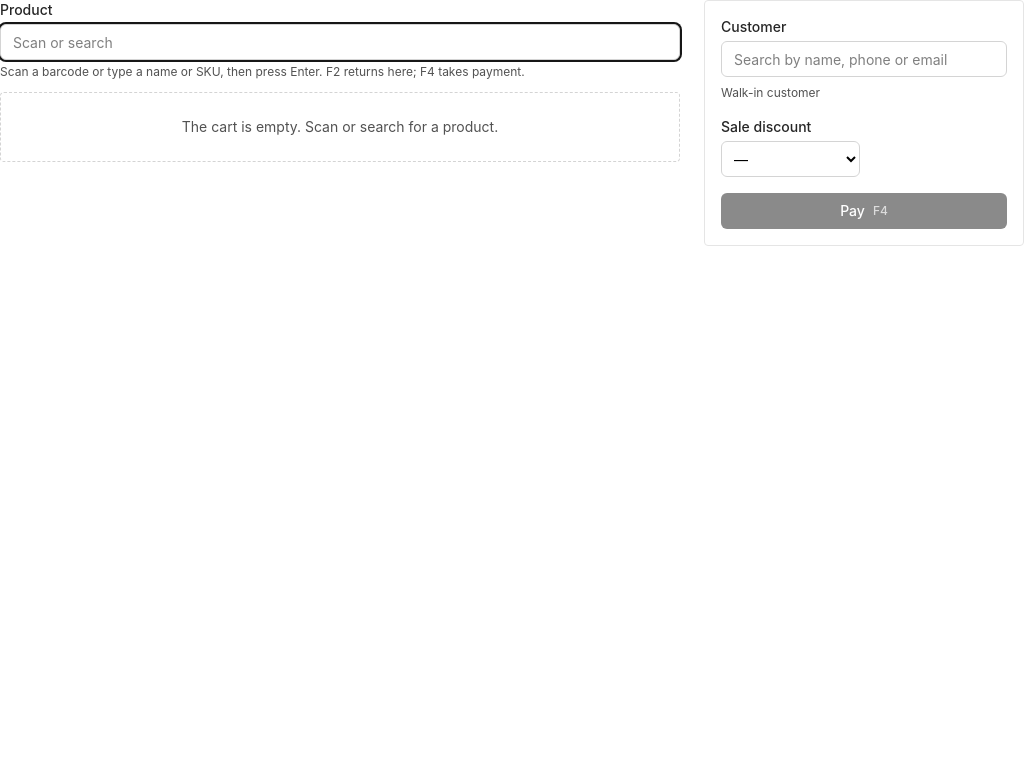
Test: PosScreen › needs a reference for a method that asks for one
Type "CH-A" into the field labelled "Product". click: (340, 42)
box: left=0, top=24, right=680, bottom=60
Then press Enter
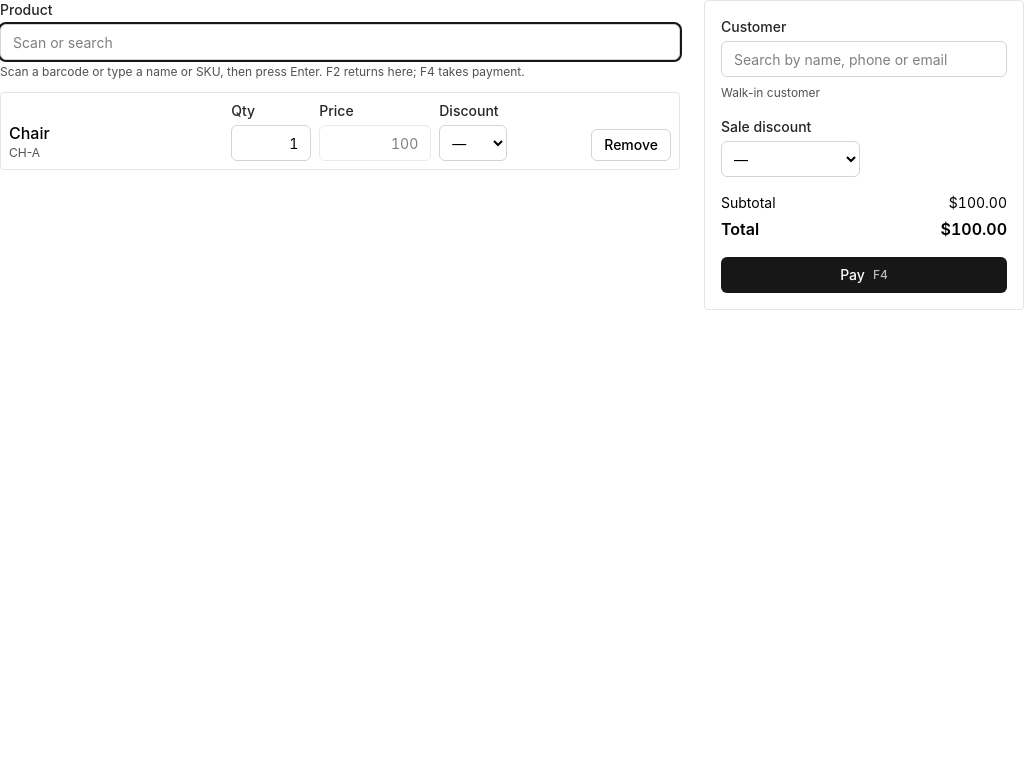
Expected: the text "Chair" is shown, left=9, top=123, right=50, bottom=143
Click the button "Pay F4". click: (864, 275)
box: left=721, top=257, right=1007, bottom=293
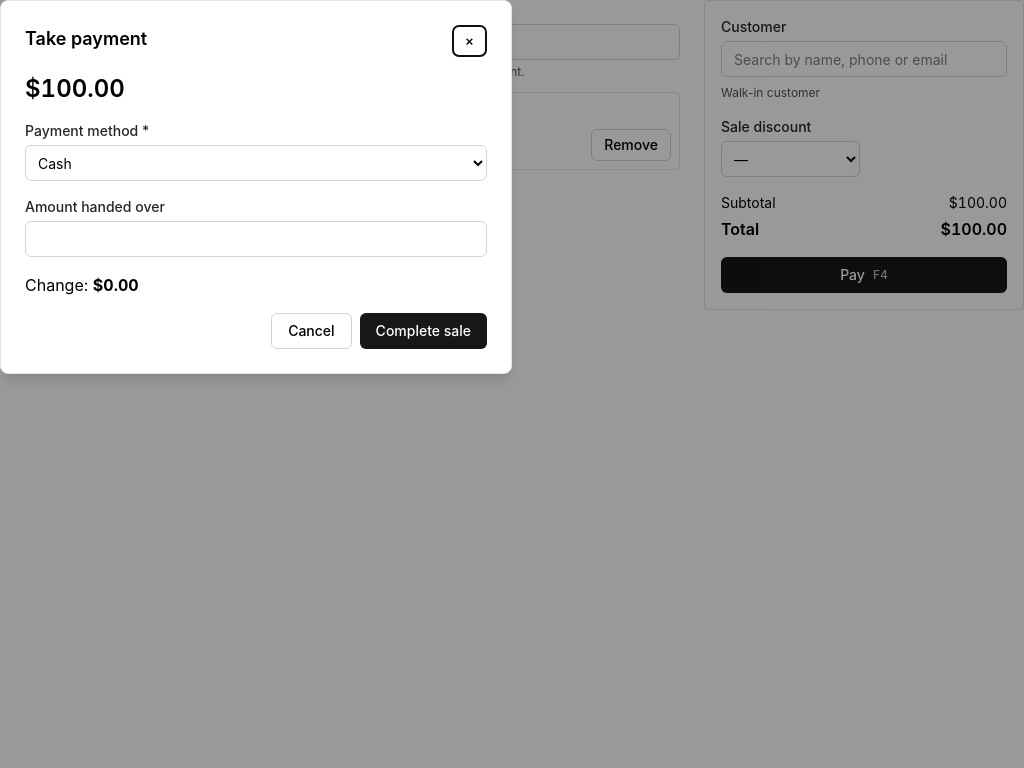
Select "Bank transfer" in the dropdown labelled "Payment method *". click: (256, 163)
box: left=25, top=145, right=487, bottom=181
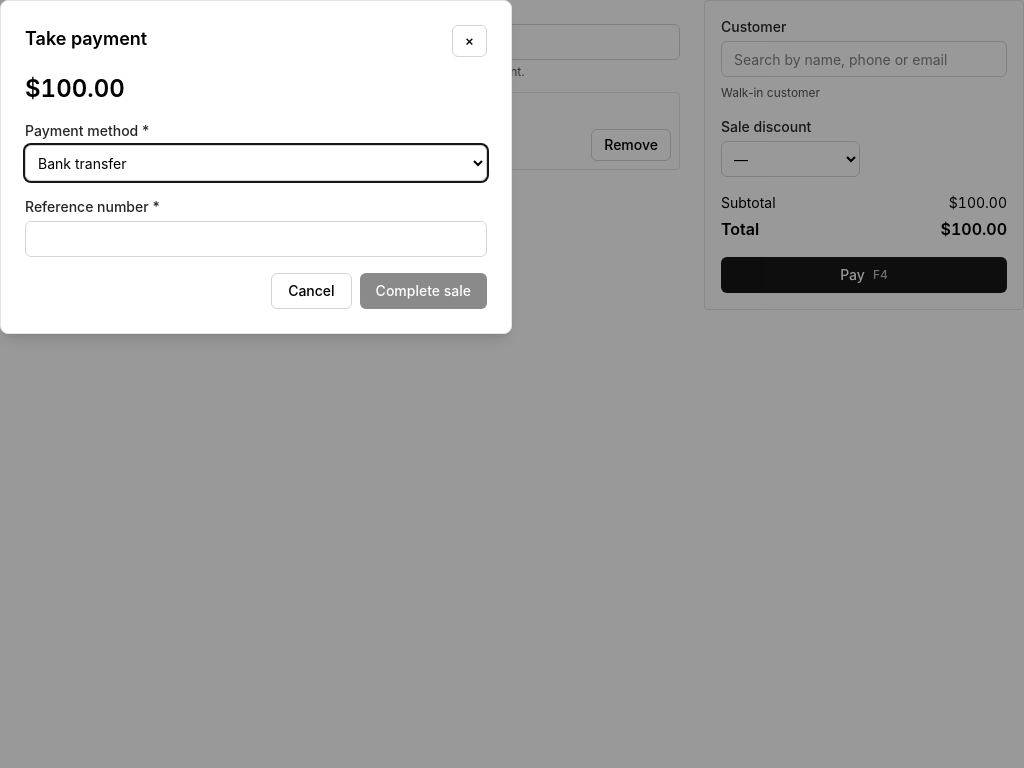
Expected: the button "Complete sale" is disabled, left=360, top=273, right=487, bottom=309
Type "TX-9" into the field labelled "Reference number *". click: (256, 239)
box: left=25, top=221, right=487, bottom=257
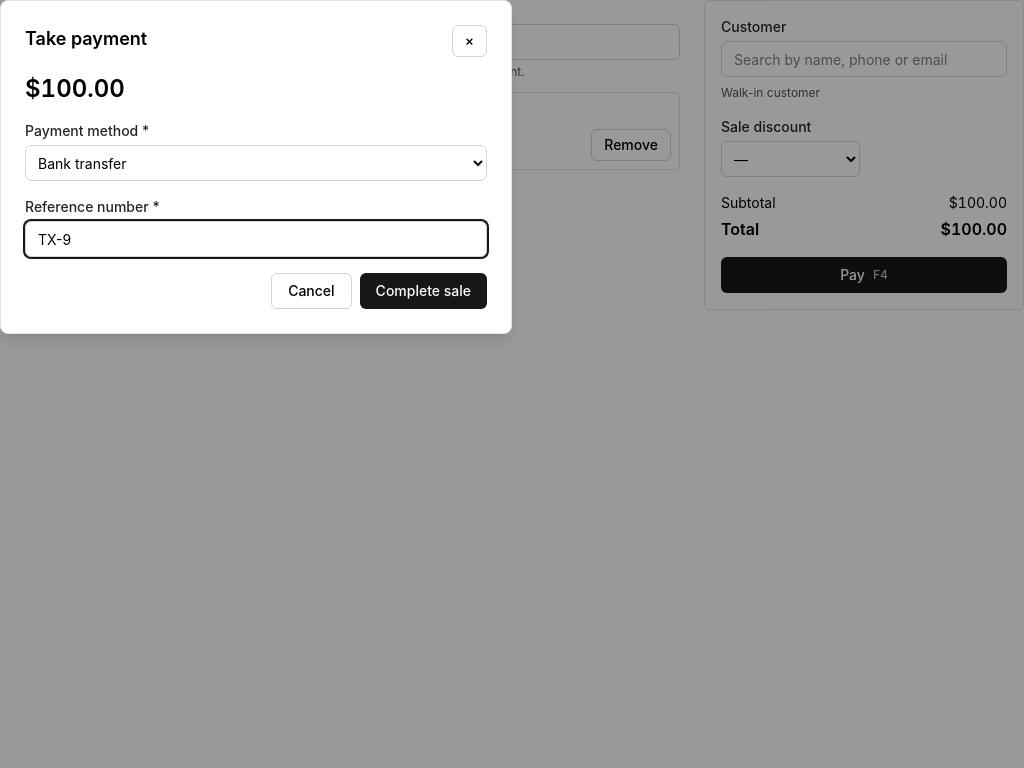
Expected: the button "Complete sale" is enabled, left=360, top=273, right=487, bottom=309
